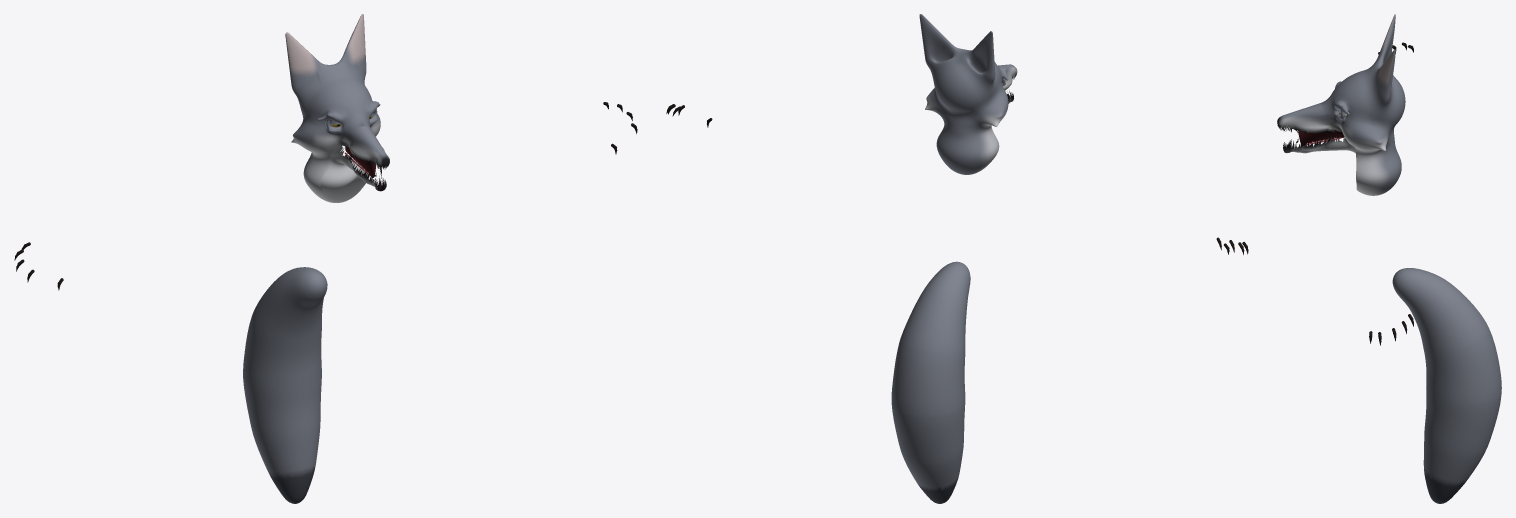
File: male_wolf.glb
3 renders of one model, left to right at view 1: azimuth 30°, elevation 25°; view 2: azimuth 150°, elevation 25°; view 3: azimuth 270°, elevation 25°, orthographic. The views are drawn at different scales.
Parts seen in each view (by area): view 1: AnimalTail, AnimalHead; view 2: AnimalTail, AnimalHead; view 3: AnimalTail, AnimalHead.
Boxes of the visible parts, x1,y1,x2,y2 form: AnimalTail: [243, 267, 327, 503]; AnimalHead: [285, 14, 389, 202]; AnimalTail: [891, 261, 970, 503]; AnimalHead: [919, 14, 1017, 174]; AnimalTail: [1392, 268, 1501, 503]; AnimalHead: [1277, 14, 1405, 195].
Bounding box in the file's own units: 1.94 × 1.49 × 0.6395.
